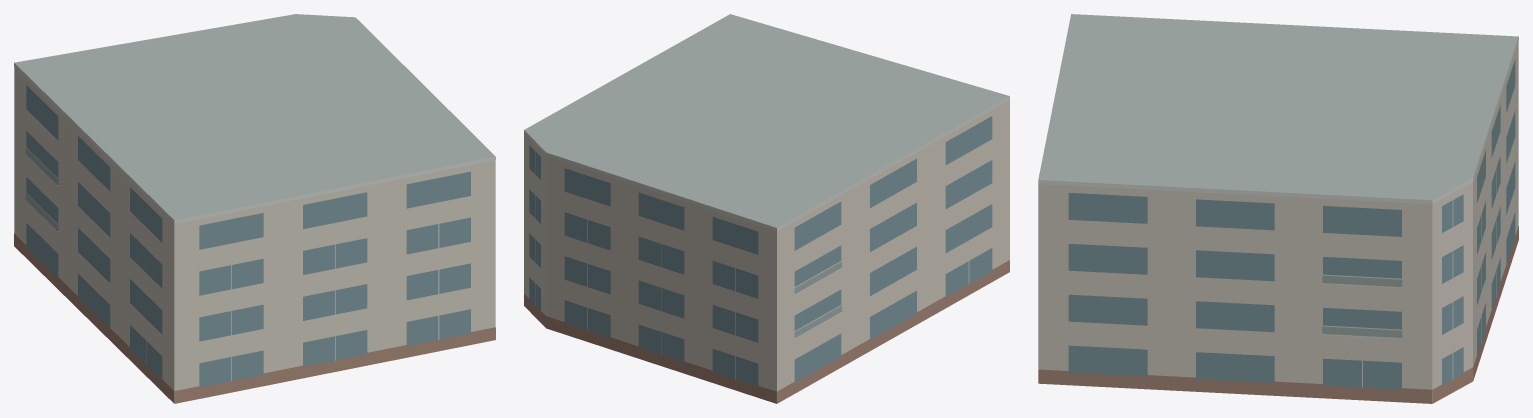
Rendered from survey-upis-32807756.glb.
The picture shows the model from 3 angles, left to right: view 1: azimuth 30°, elevation 25°; view 2: azimuth 150°, elevation 25°; view 3: azimuth 270°, elevation 25°; orthographic projection. The views are drawn at different scales.
Visible parts, largest first — view 1: survey-upis-32807756.tmp; view 2: survey-upis-32807756.tmp; view 3: survey-upis-32807756.tmp.
Boxes of the visible parts, left/top/right/bottom form: survey-upis-32807756.tmp: left=14, top=14, right=495, bottom=403; survey-upis-32807756.tmp: left=524, top=14, right=1009, bottom=403; survey-upis-32807756.tmp: left=1038, top=14, right=1518, bottom=403.
Bounding box in the file's own units: 23.94 × 12.2 × 26.1.
